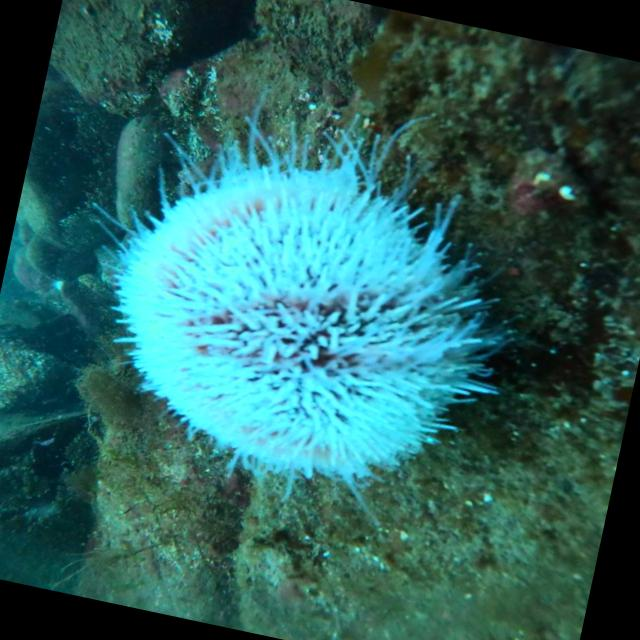Deniz Kestanesi: (36, 39, 552, 542)
